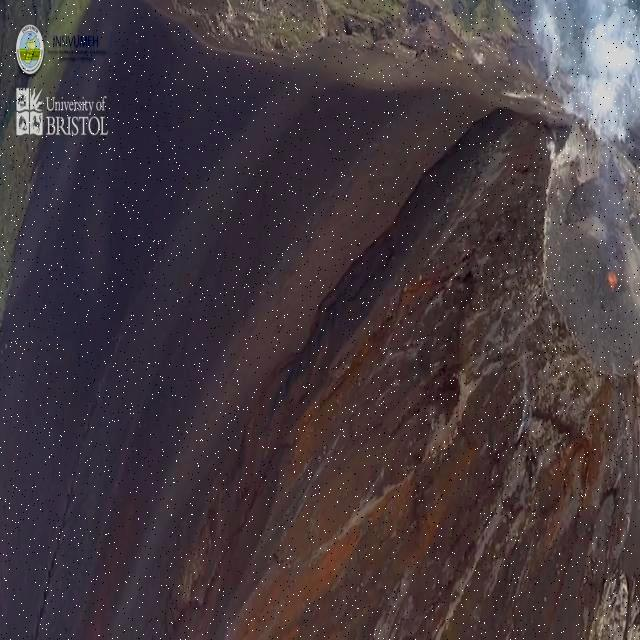Plume: (526, 0, 640, 142)
Summit: (523, 92, 640, 394)
